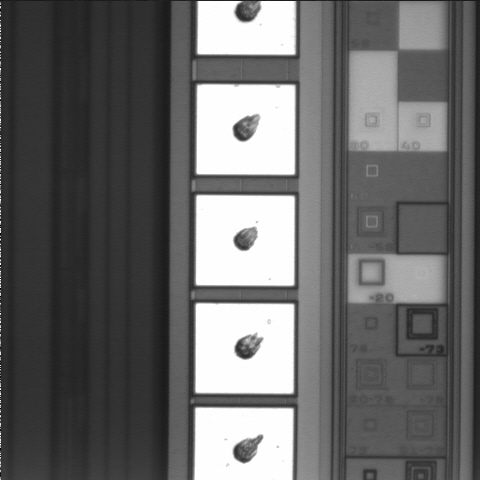pad: (196, 84, 295, 175), (196, 195, 295, 286), (195, 303, 294, 394)
